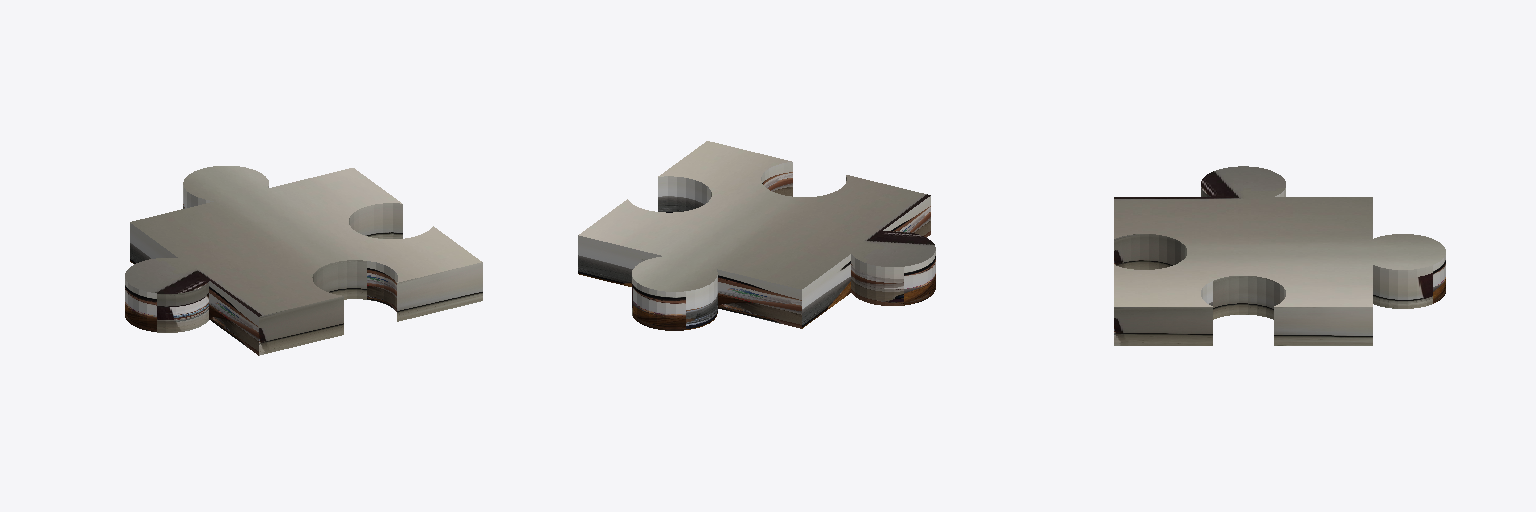
3 views of the same model, side by side, from view 1: azimuth 30°, elevation 25°; view 2: azimuth 150°, elevation 25°; view 3: azimuth 270°, elevation 25° (orthographic).
Parts seen in each view (by area): view 1: ͼ��017; view 2: ͼ��017; view 3: ͼ��017.
Part boxes in pixels (x1,y1,x2,y2): ͼ��017: (125,166,482,355); ͼ��017: (578,141,935,330); ͼ��017: (1114,166,1445,345).
Size of the model in its own units: 38.5 by 5 by 38.5.
Materials: 1 (1 with a texture image).